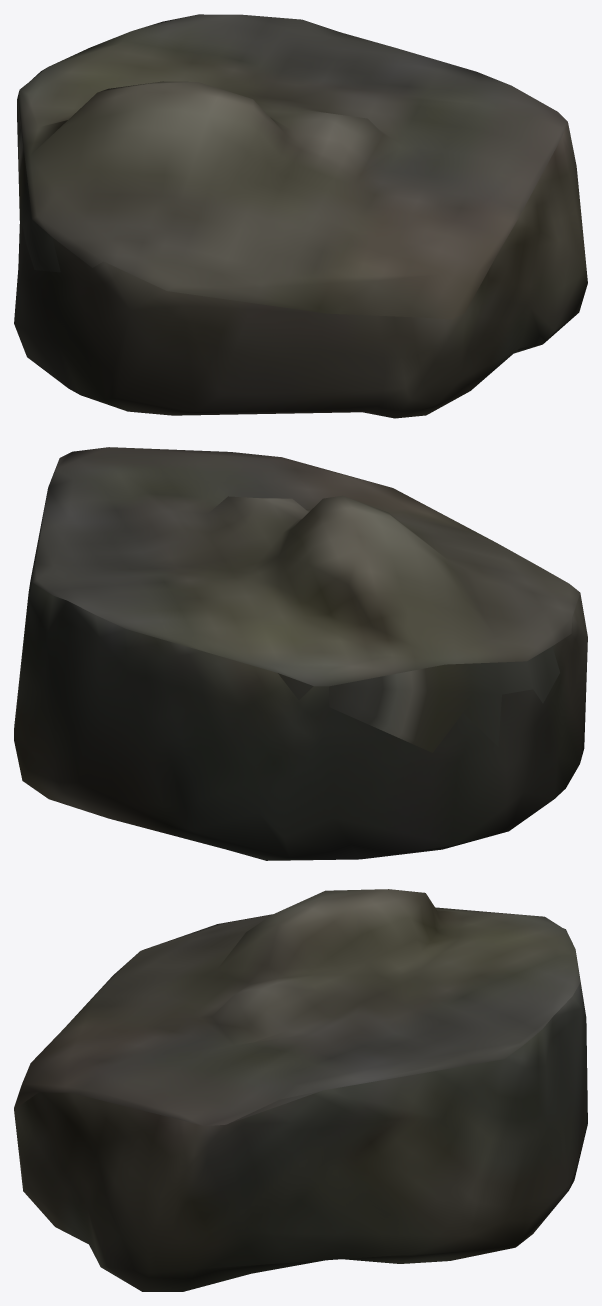
3 views of the same model, one above another, from view 1: azimuth 30°, elevation 25°; view 2: azimuth 150°, elevation 25°; view 3: azimuth 270°, elevation 25° (orthographic). The views are drawn at different scales.
Visible parts, largest first — view 1: smallrock5_1; view 2: smallrock5_1; view 3: smallrock5_1.
Boxes of the visible parts, box(x1,y1,x2,y2) form: smallrock5_1: box(14, 14, 587, 418); smallrock5_1: box(14, 447, 587, 860); smallrock5_1: box(14, 889, 587, 1291).
Size of the model in its own units: 4.11 by 1.98 by 4.02.
1 material, 1 textured.
